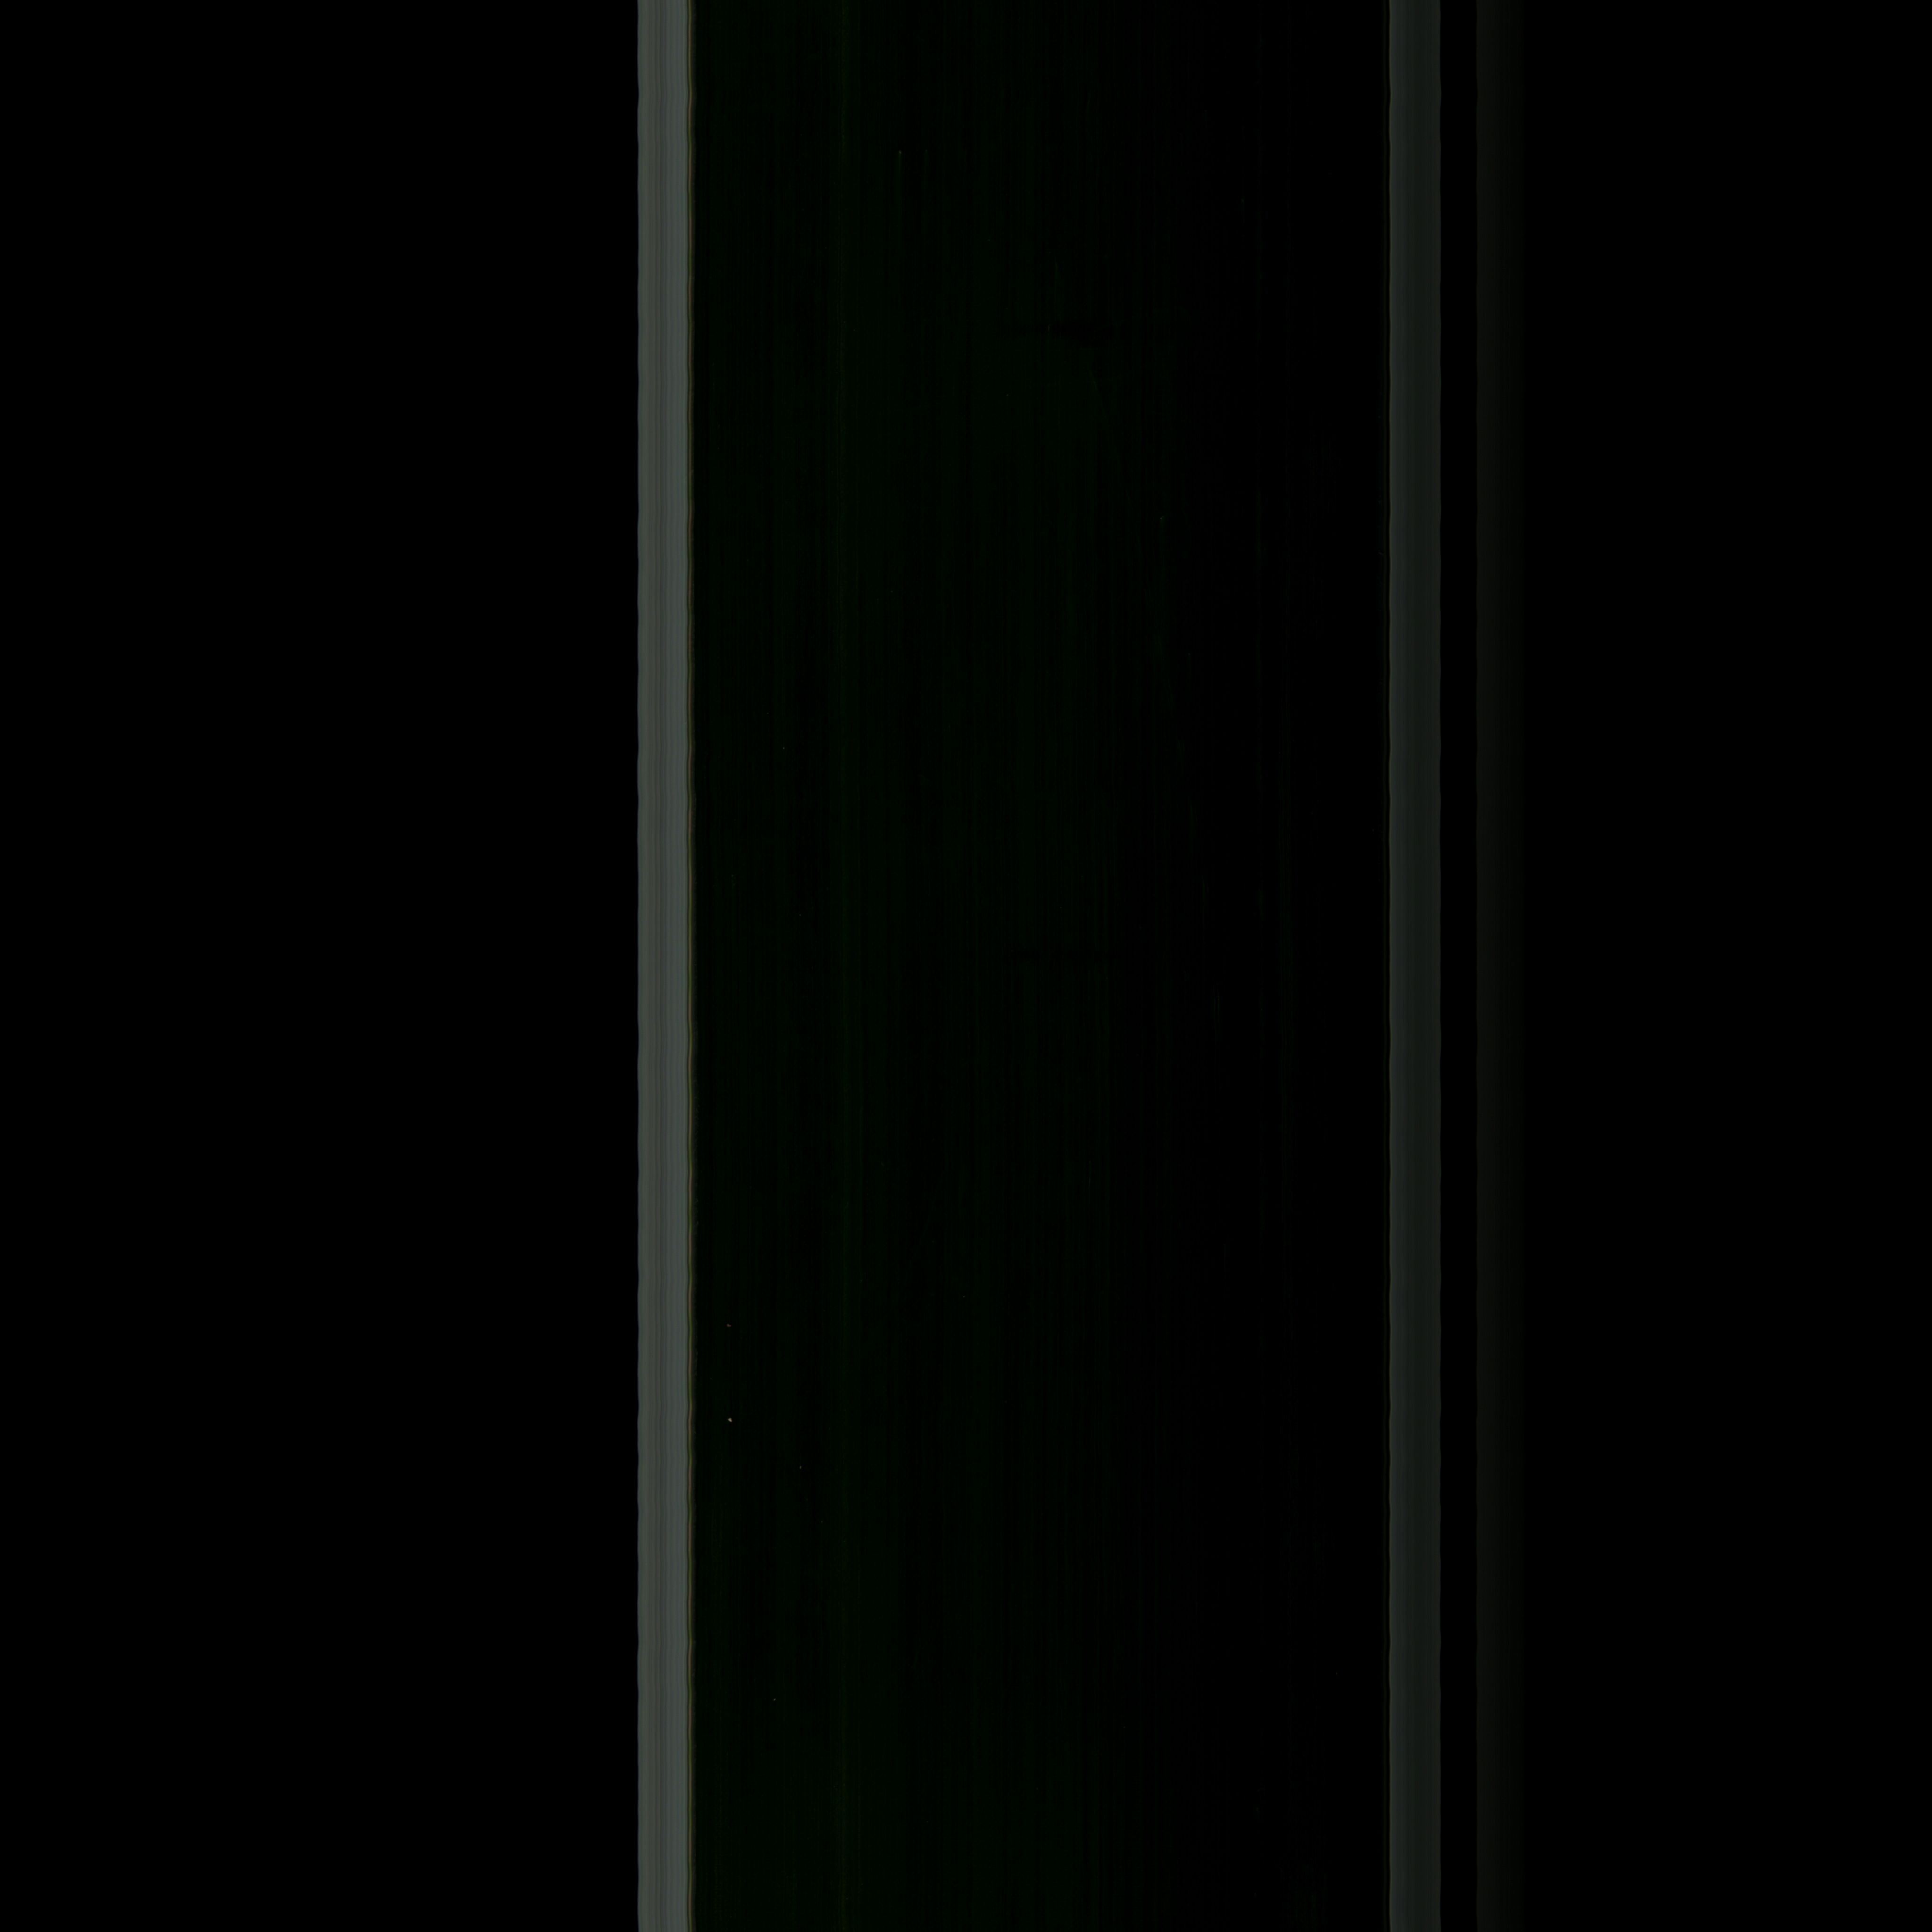dreg: (718, 1403, 750, 1438)
